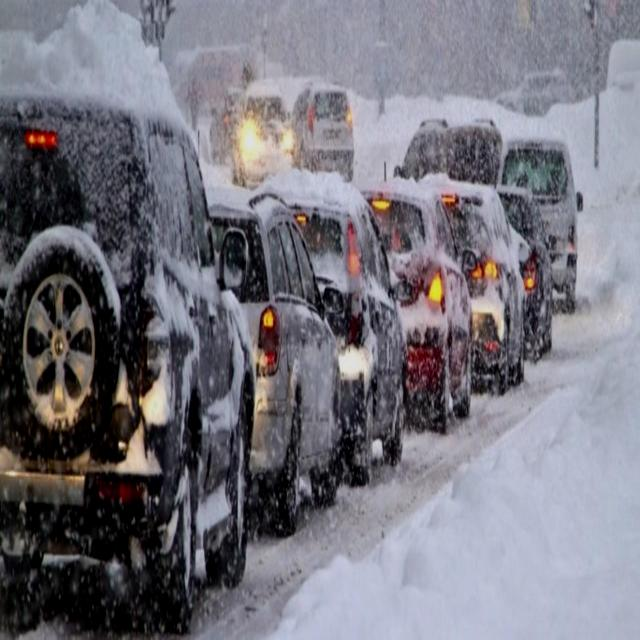Car: (0, 70, 251, 634), (200, 157, 341, 535), (263, 157, 408, 484), (358, 171, 477, 431), (421, 165, 531, 398), (484, 187, 558, 365), (395, 113, 506, 194), (292, 81, 357, 175), (494, 66, 571, 115), (209, 86, 248, 162)
